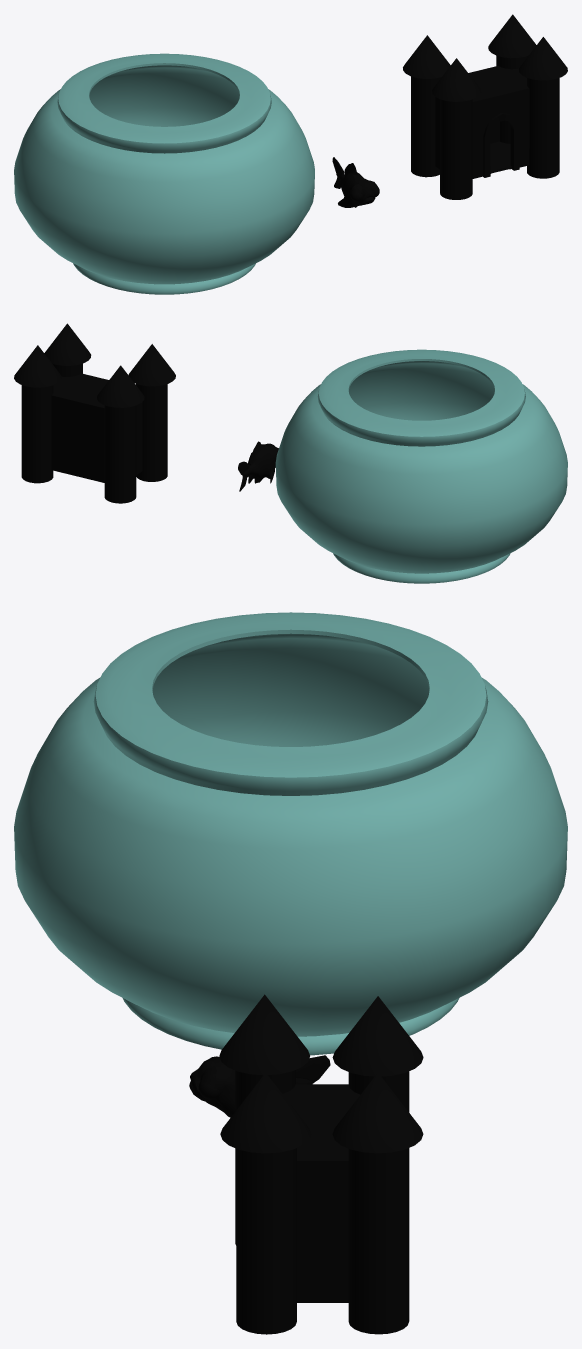
Rendered from export4painter.obj.
The picture shows the model from 3 angles, top to bottom: view 1: azimuth 30°, elevation 25°; view 2: azimuth 150°, elevation 25°; view 3: azimuth 270°, elevation 25°; orthographic projection. The views are drawn at different scales.
Parts seen in each view (by area): view 1: bowl, polySurface1, polySurface13 fish; view 2: bowl, polySurface1, polySurface13 fish; view 3: bowl, polySurface1, polySurface13 fish.
Boxes of the visible parts, x1,y1,x2,y2 form: bowl: (14, 53, 314, 294); polySurface1: (403, 14, 567, 199); polySurface13 fish: (332, 157, 378, 207); bowl: (275, 349, 567, 583); polySurface1: (14, 323, 175, 503); polySurface13 fish: (238, 441, 278, 491); bowl: (14, 612, 567, 1055); polySurface1: (219, 994, 423, 1334); polySurface13 fish: (189, 1055, 330, 1117).
Size of the model in its own units: 73.37 by 21.82 by 36.53.
